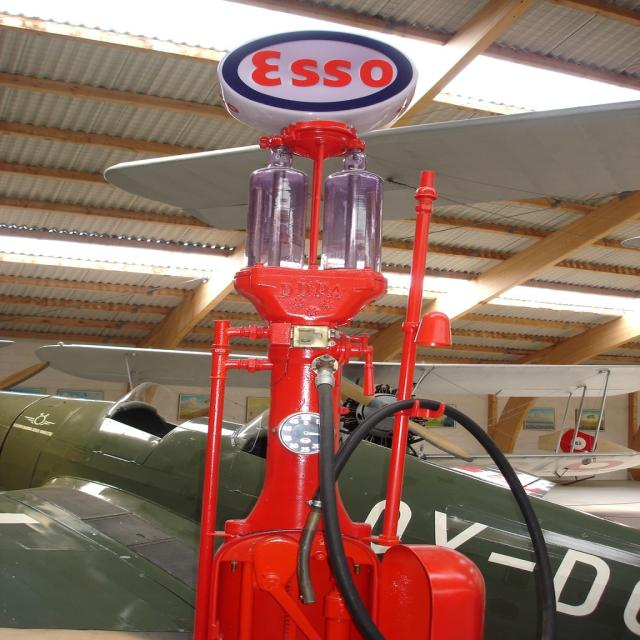esso: (218, 27, 419, 116)
